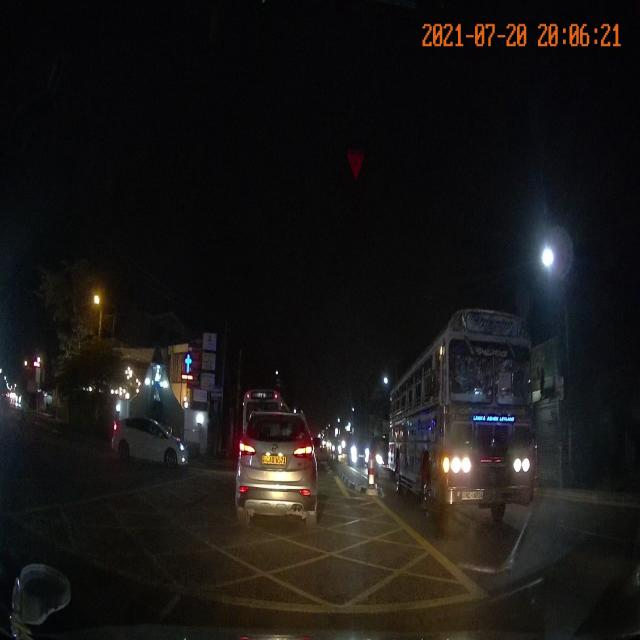Jeltaya razmetka: (151, 491, 493, 618)
